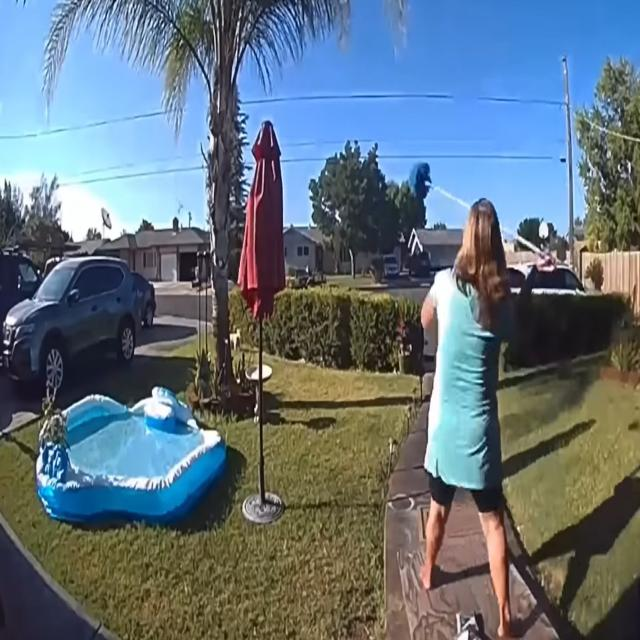standing: (420, 199, 515, 639)
